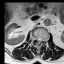CCS_normal: (38, 35, 40, 47)
LFS_normal: (42, 35, 45, 43)
LLS_normal: (40, 35, 42, 43)
RFS_normal: (34, 35, 36, 42)
RLS_normal: (36, 35, 38, 43)
